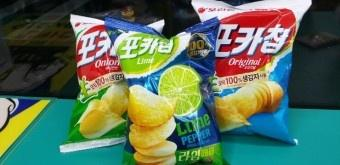snack: (105, 15, 230, 165), (191, 0, 313, 147)
